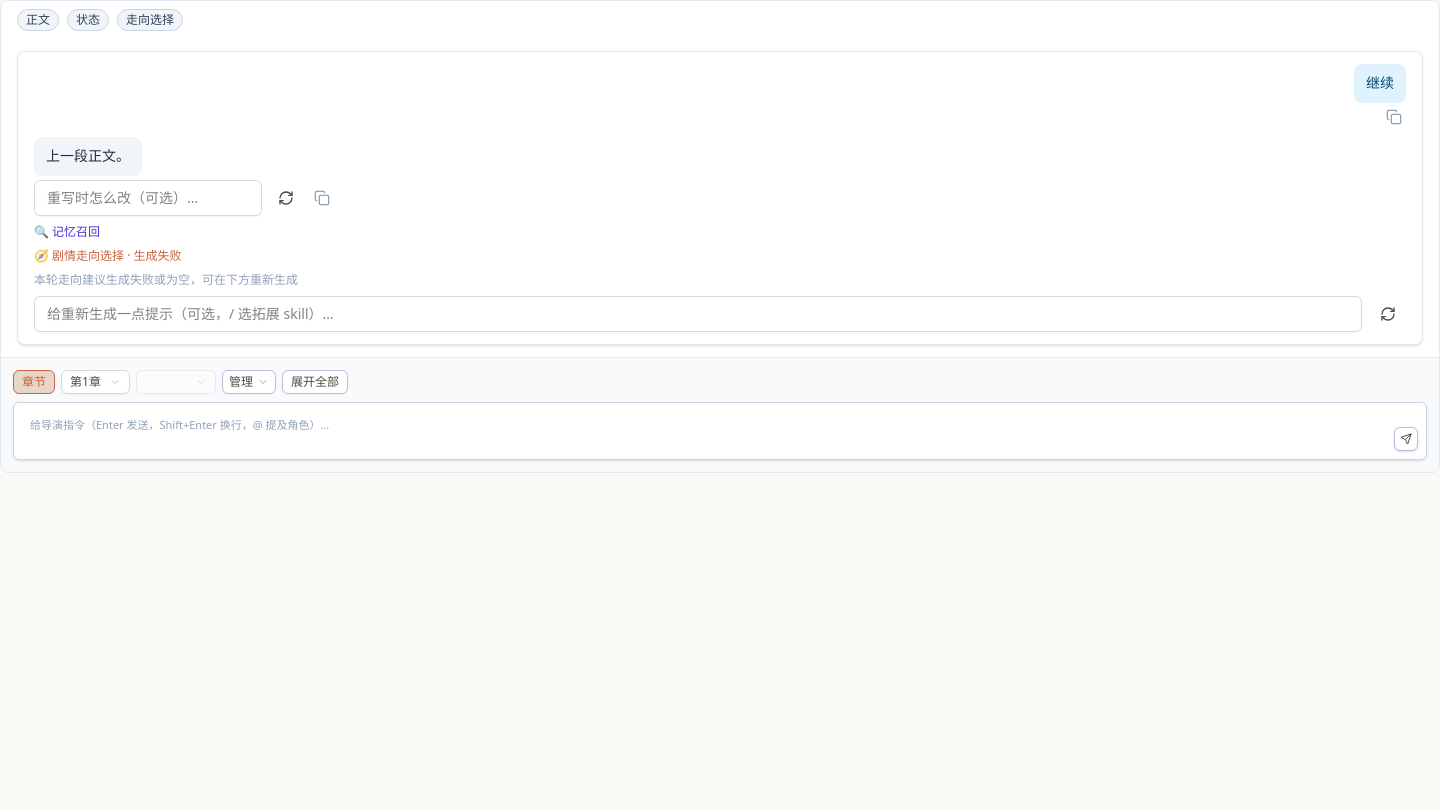
it: StorySandboxPanel › locks pills when sending before story_sandbox_done (suggestions already on liveRound)
Expected: the text "上一段正文。" is shown, [46,145,130,168]
Type "第二段" into the text box with placeholder "给导演指令（Enter 发送，Shift+Enter 换行，@ 提及角色）…".
click(704, 430); type("第二段")  # box [22,410,1386,450]
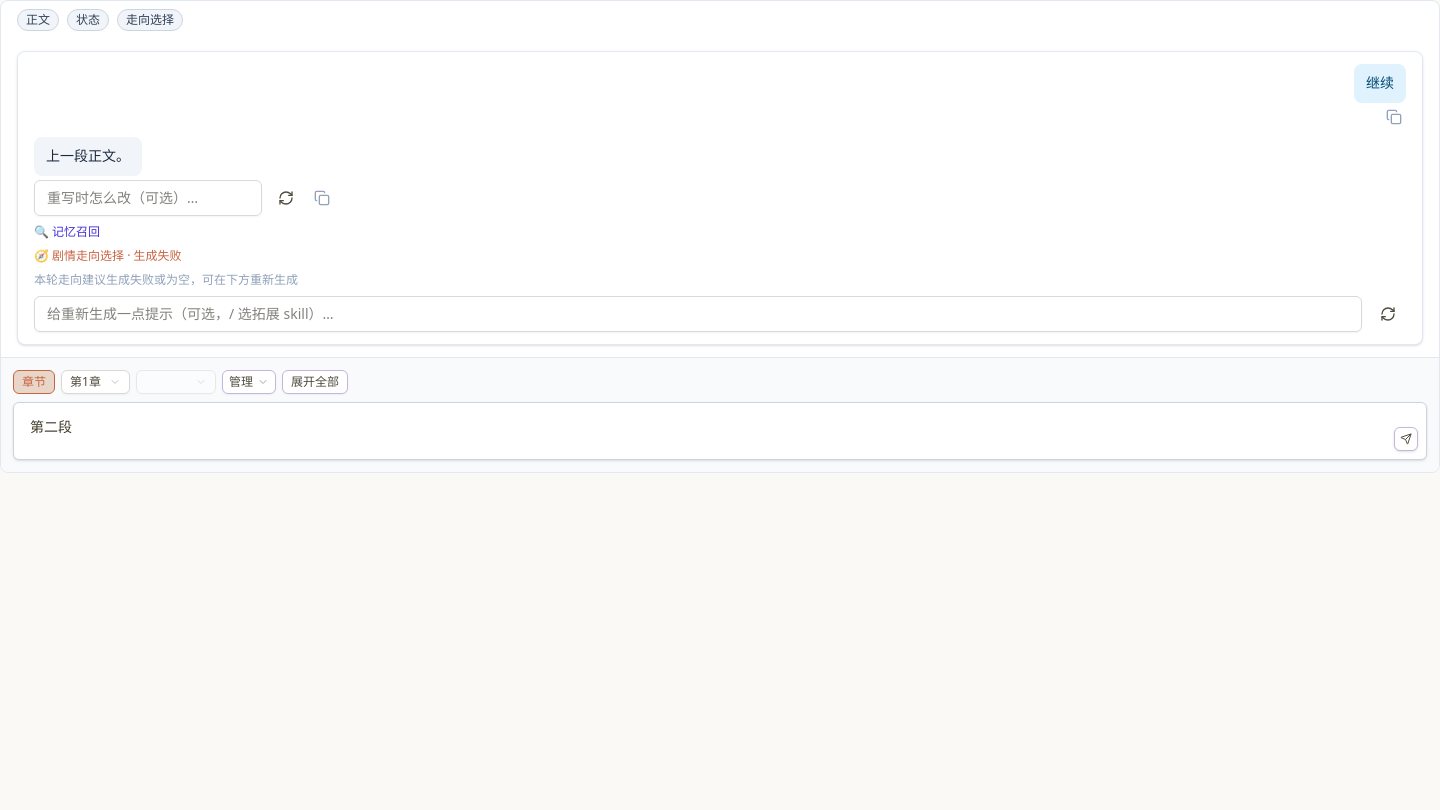
Press Enter in the text box with placeholder "给导演指令（Enter 发送，Shift+Enter 换行，@ 提及角色）…", box [22,410,1386,450]
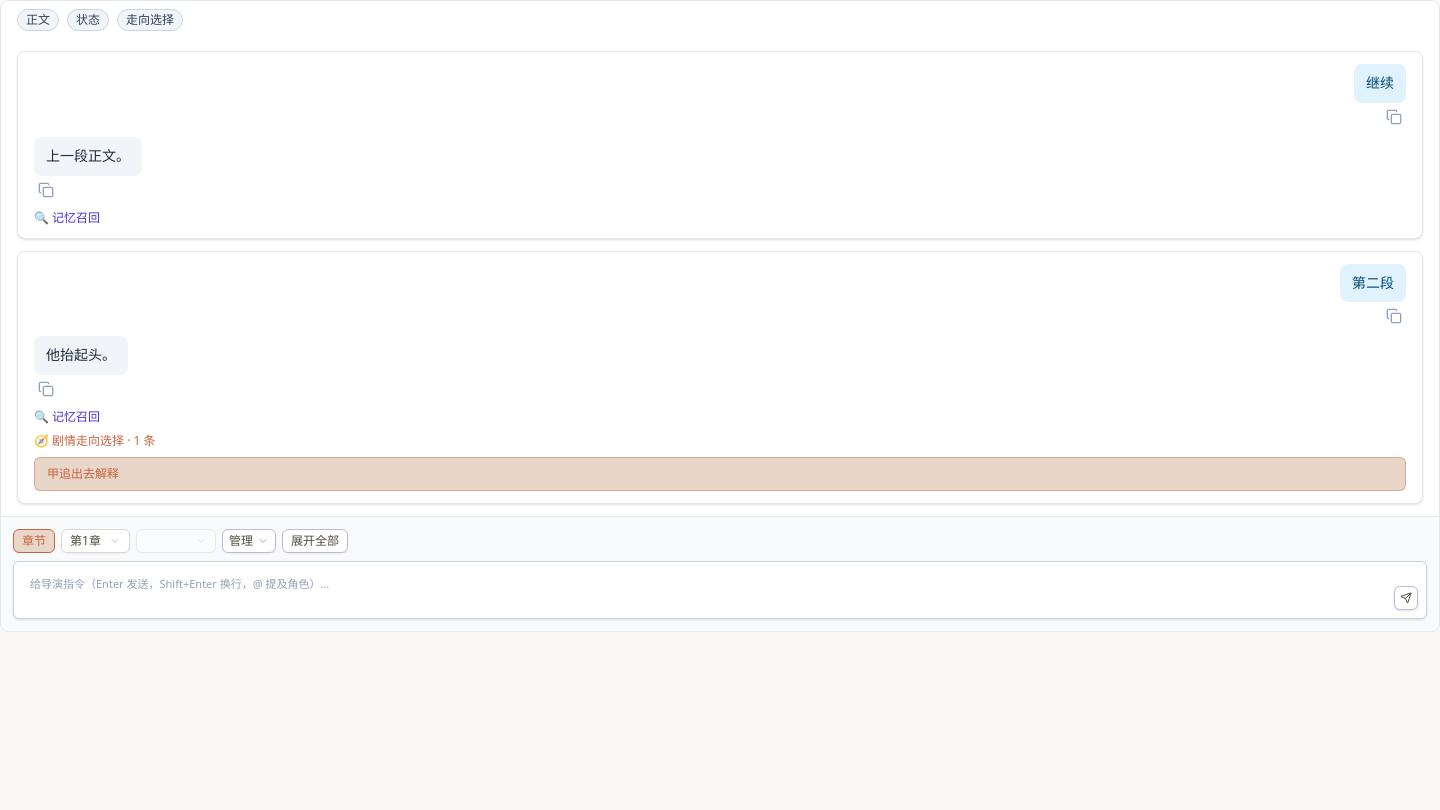
Expected: the button "甲追出去解释" is enabled, [34,457,1406,491]
Type "不点选项直接发" into the text box with placeholder "给导演指令（Enter 发送，Shift+Enter 换行，@ 提及角色）…".
click(704, 590); type("不点选项直接发")  # box [22,570,1386,610]
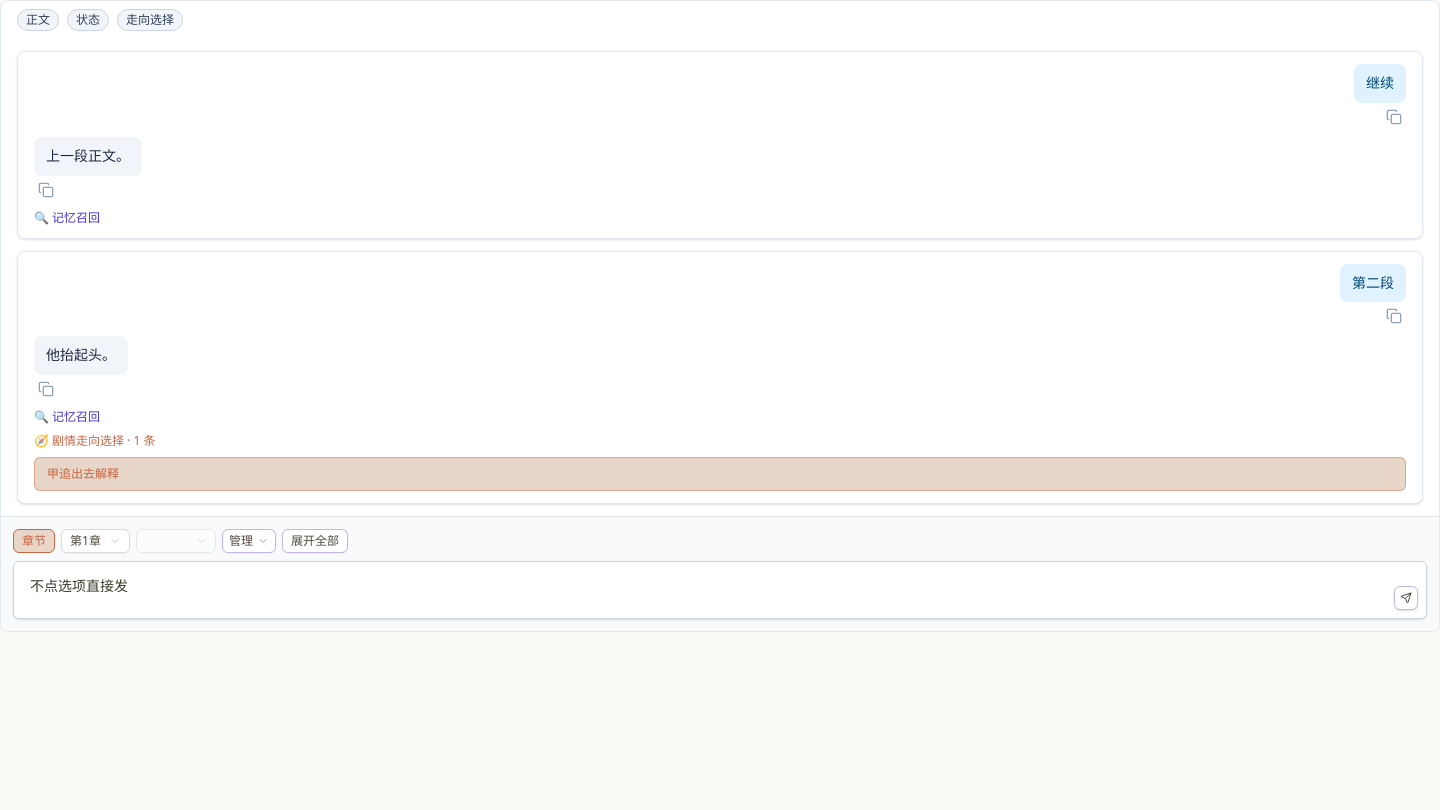
Press Enter in the text box with placeholder "给导演指令（Enter 发送，Shift+Enter 换行，@ 提及角色）…", box [22,570,1386,610]
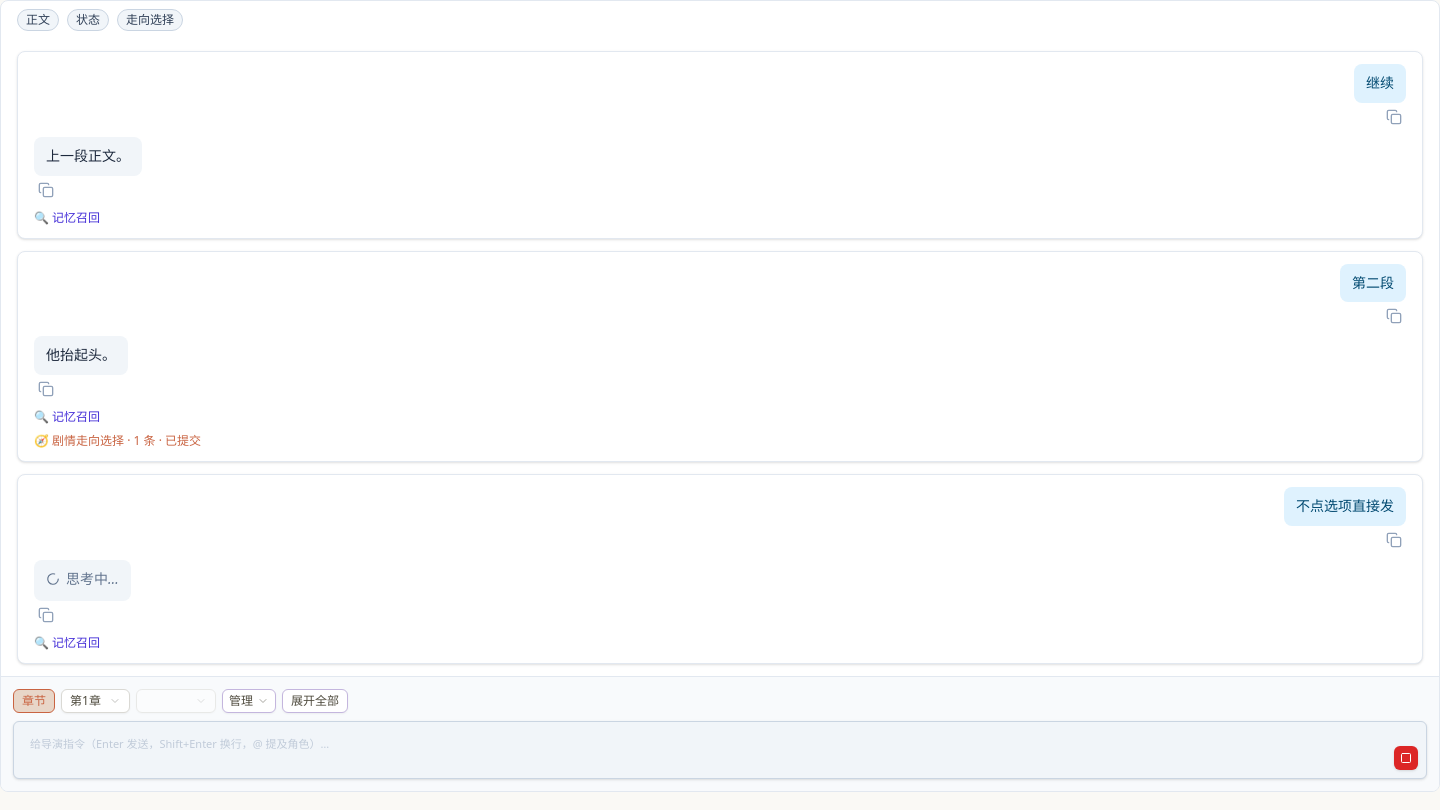
Click the button "🧭 剧情走向选择 · 1 条 · 已提交".
click(118, 441)  # box [34,433,201,449]
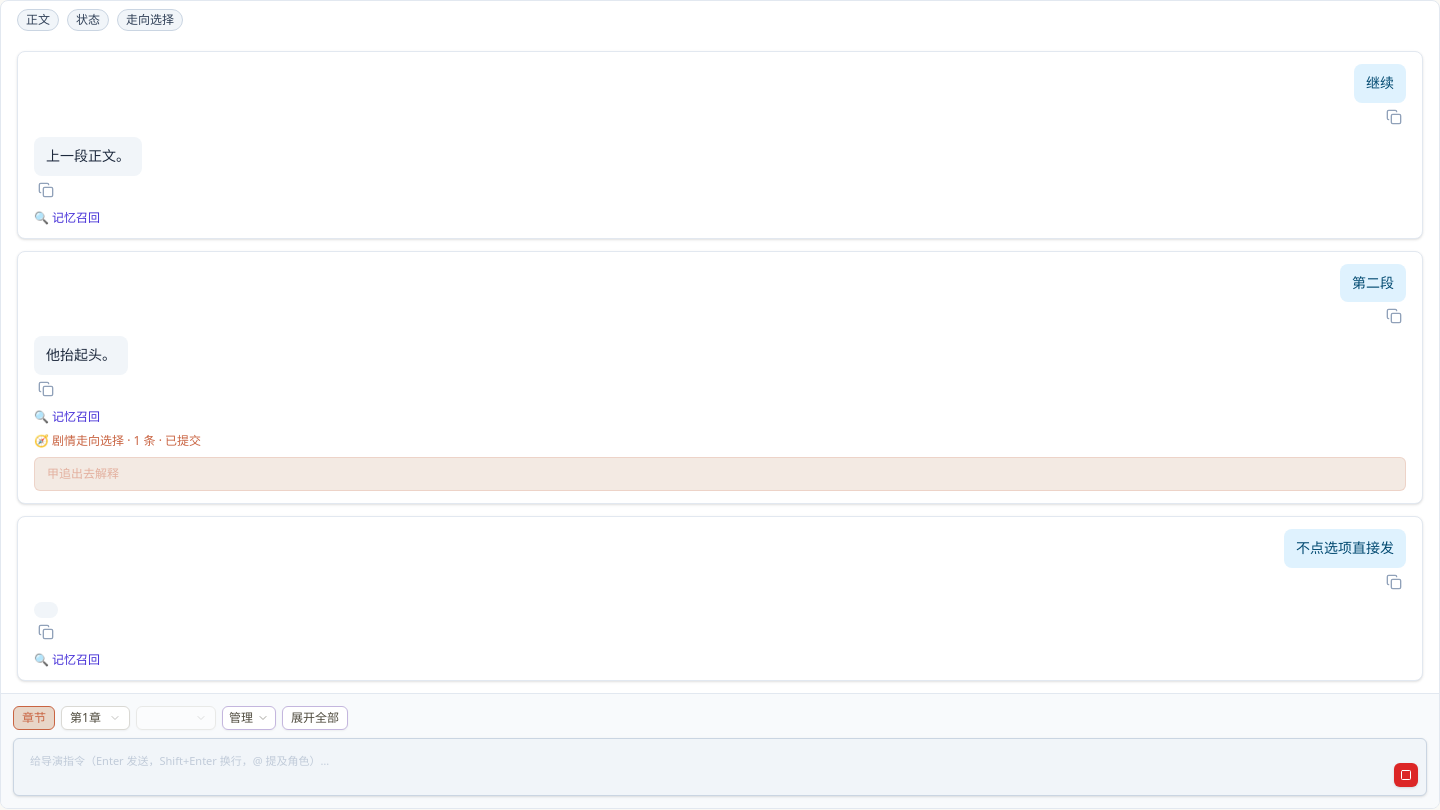
Expected: the button "🧭 剧情走向选择 · 1 条 · 已提交" is shown, [34,433,201,449]
Expected: the button "甲追出去解释" is disabled, [34,457,1406,491]
